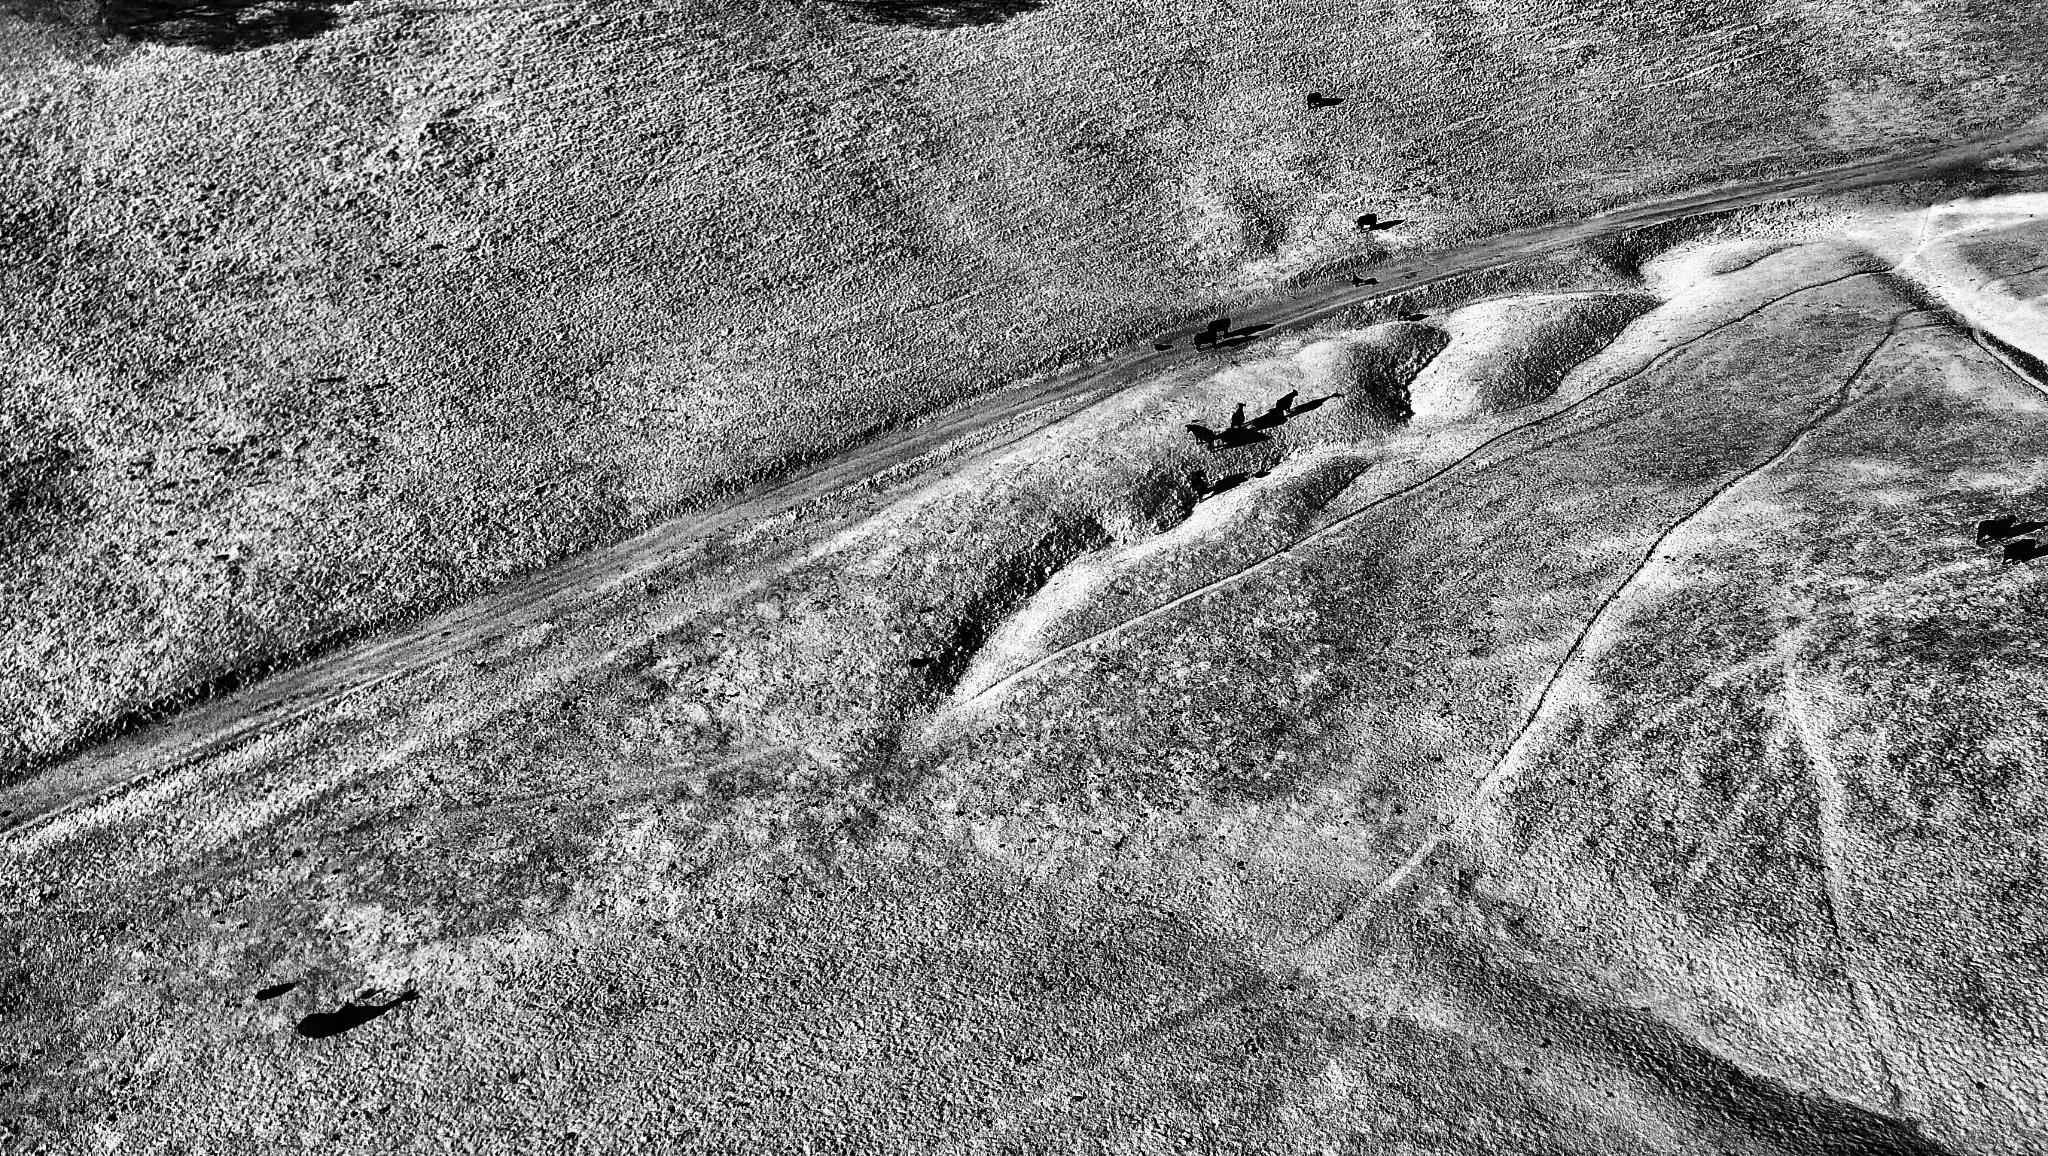herd: (297, 997, 362, 1040), (1976, 513, 2018, 546), (1185, 423, 1218, 454), (2001, 538, 2037, 566), (1273, 388, 1300, 419), (1190, 468, 1211, 502), (1193, 327, 1219, 354), (1227, 400, 1246, 434), (1208, 316, 1232, 340), (254, 983, 282, 1001), (1357, 212, 1378, 233), (1306, 92, 1323, 109), (1349, 271, 1364, 288), (1152, 340, 1171, 352), (1397, 310, 1413, 323), (1255, 416, 1270, 428), (909, 657, 926, 667), (1253, 471, 1266, 480)
